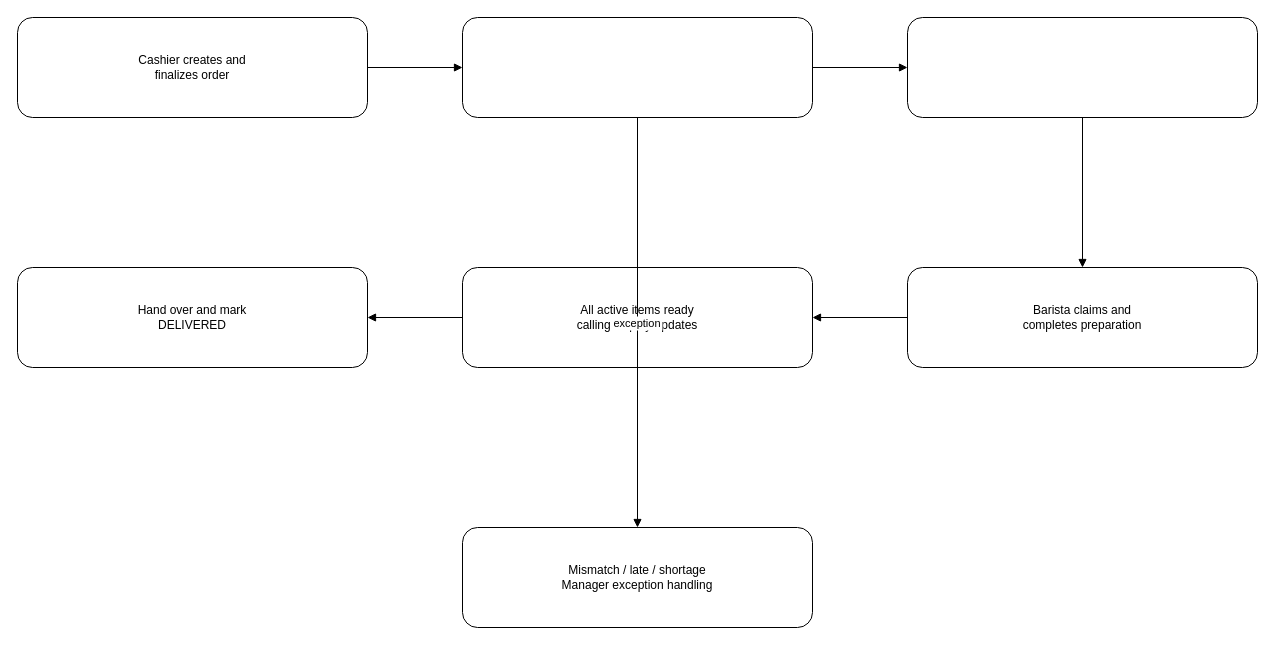
This 1275x645 diagram has some shape labels left out. The shapes that lost their labels are listed below. From the top down, each one's centre as x and y in pixels, then its label:
the point at 637,67: Cash sufficient or verified PayOS payment
the point at 1082,67: Atomic settlement calling number + paid units
